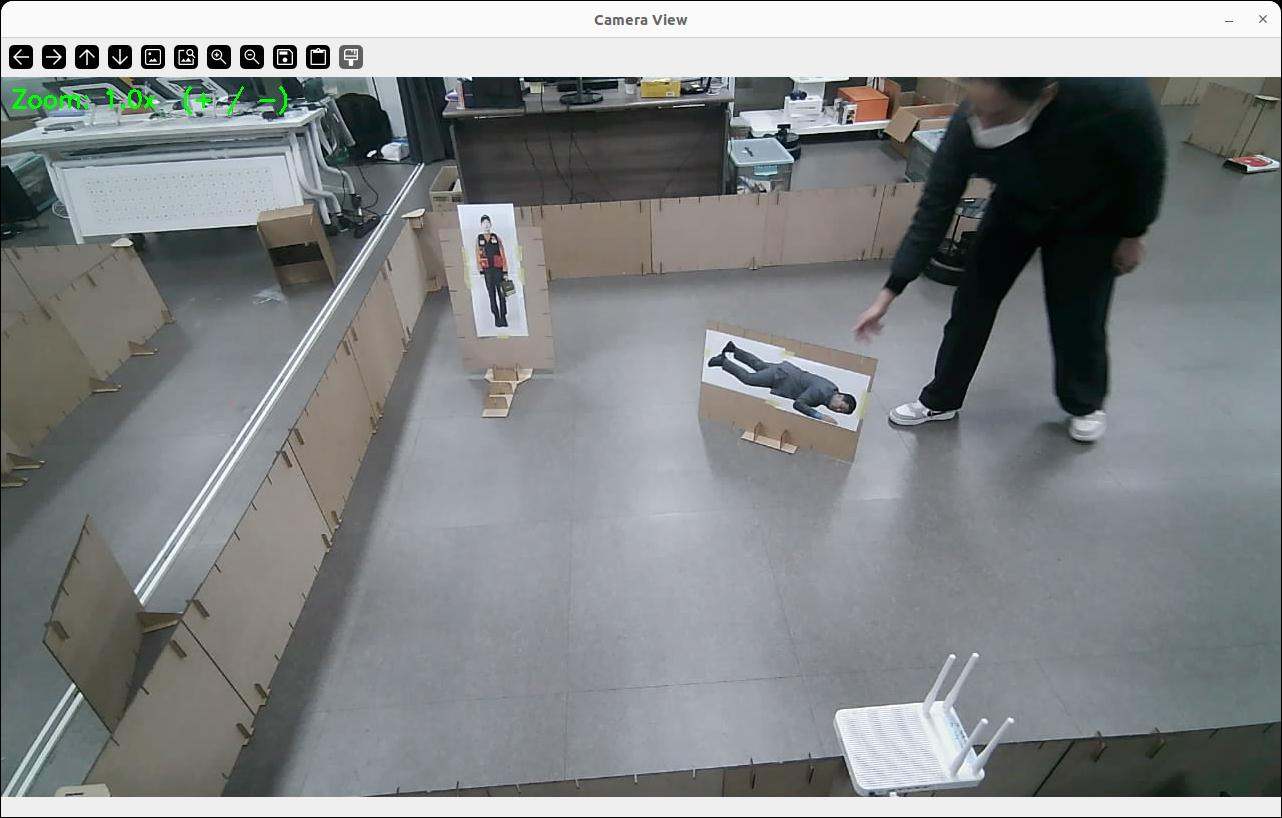Patient: (708, 342, 855, 424)
Responder: (477, 217, 508, 327)
